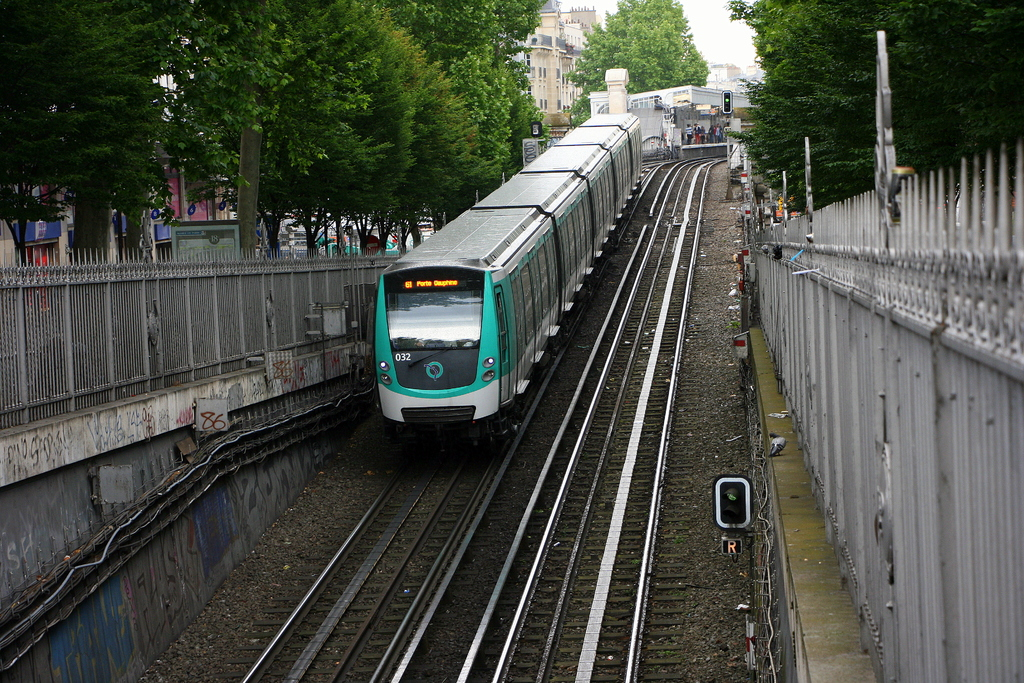train: (370, 112, 645, 445)
